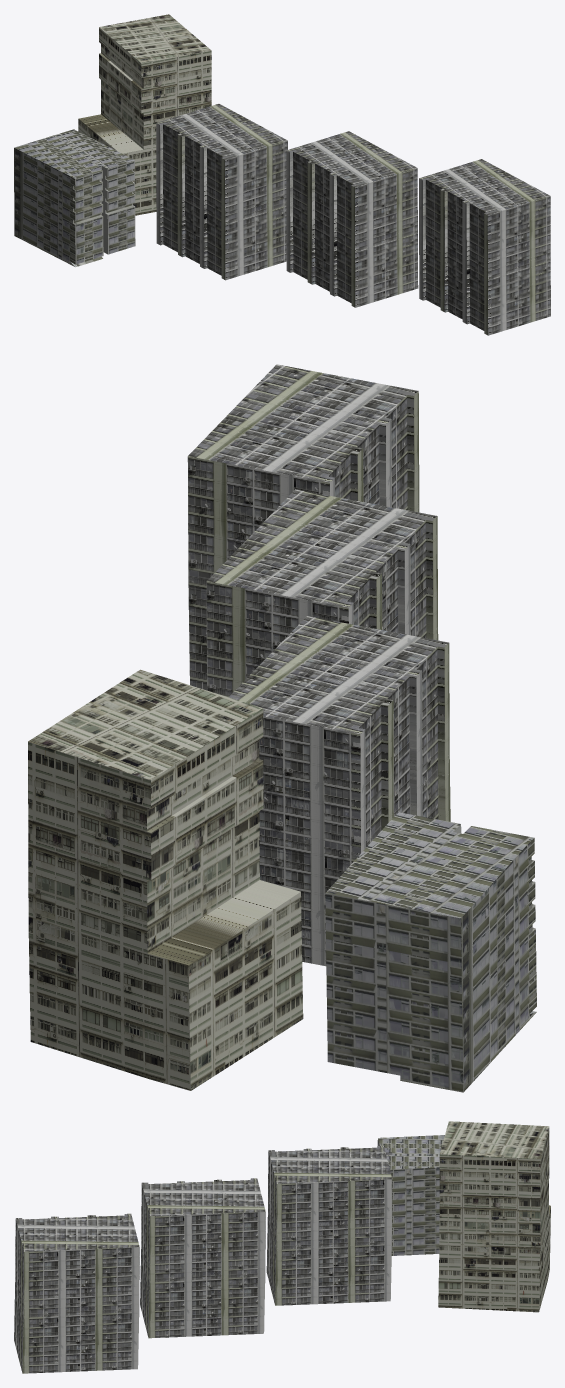
File: SM_Corridor_07_04.fbx
3 renders of one model, top to bottom at view 1: azimuth 30°, elevation 25°; view 2: azimuth 150°, elevation 25°; view 3: azimuth 270°, elevation 25°, orthographic. The views are drawn at different scales.
Visible parts, largest first — view 1: SM_Corridor_07_04; view 2: SM_Corridor_07_04; view 3: SM_Corridor_07_04.
Part boxes in pixels (box(x1,y1,x2,y2)): SM_Corridor_07_04: box(14, 14, 550, 335); SM_Corridor_07_04: box(28, 364, 536, 1092); SM_Corridor_07_04: box(14, 1121, 550, 1373).
Bounding box in the file's own units: 14876 × 6987 × 21524.
